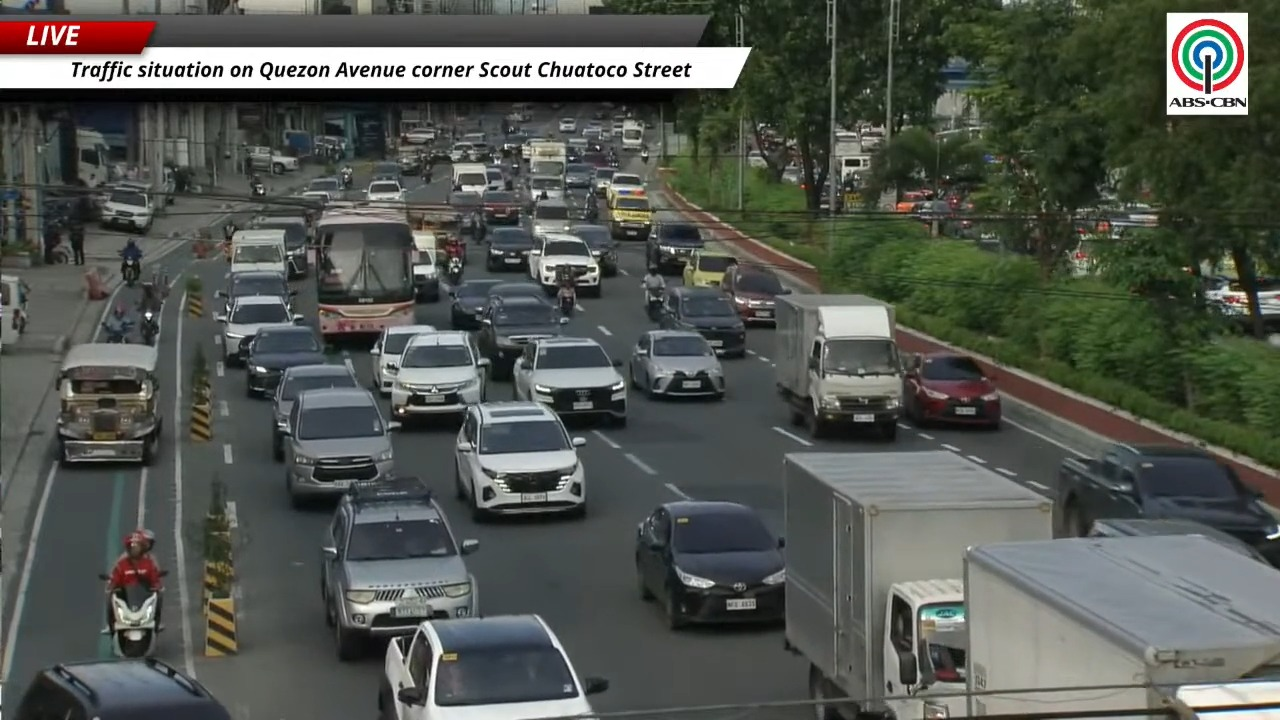bus: (314, 204, 415, 342)
car: (321, 477, 478, 660), (378, 615, 608, 719), (635, 500, 785, 629), (455, 401, 586, 519), (282, 388, 399, 507), (4, 659, 229, 719), (513, 337, 627, 426), (391, 331, 489, 421), (272, 363, 358, 460), (477, 288, 568, 379), (1087, 518, 1269, 563), (903, 352, 1001, 428), (628, 330, 725, 398), (215, 295, 302, 366), (659, 286, 745, 357), (245, 325, 324, 396), (370, 324, 436, 395), (530, 233, 602, 296), (721, 263, 790, 325), (249, 217, 308, 278), (215, 271, 295, 313), (99, 184, 158, 234), (646, 222, 704, 271), (450, 278, 502, 329), (570, 224, 618, 276), (486, 226, 533, 271), (682, 248, 736, 287), (608, 196, 652, 241), (447, 191, 483, 236), (532, 198, 572, 235), (483, 191, 520, 228), (490, 281, 549, 304), (566, 188, 598, 227), (527, 175, 564, 208), (607, 172, 646, 203), (1255, 277, 1279, 326), (366, 179, 403, 202), (565, 163, 595, 189), (304, 176, 342, 195), (397, 149, 423, 175), (298, 191, 337, 207), (485, 166, 507, 194), (403, 126, 437, 144), (371, 161, 400, 182), (581, 149, 608, 170), (449, 142, 472, 163), (471, 140, 492, 162), (582, 127, 603, 141), (558, 119, 575, 132), (610, 119, 623, 136)
motorcycle: (111, 584, 159, 658), (101, 321, 131, 343), (140, 309, 158, 345), (557, 285, 576, 316), (645, 289, 662, 321), (445, 256, 463, 286), (122, 258, 140, 287), (341, 168, 352, 188), (251, 182, 266, 196), (608, 155, 619, 168), (640, 149, 648, 162)
truck: (783, 450, 1051, 719), (961, 535, 1279, 716), (1057, 443, 1279, 563), (776, 293, 904, 439), (1174, 680, 1279, 719), (75, 127, 112, 187), (527, 140, 567, 178), (246, 146, 299, 174), (621, 120, 644, 151)
